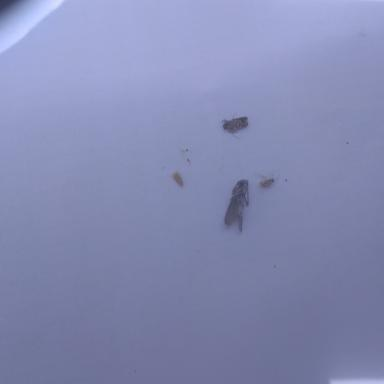pbw: (221, 112, 249, 140), (169, 169, 183, 187)
